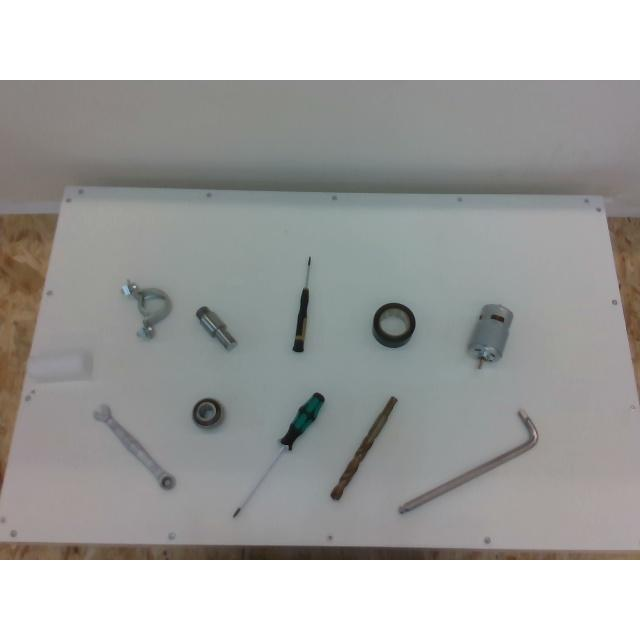AllenKey: (398, 409, 538, 513)
Axis2: (195, 306, 237, 350)
Bearing2: (192, 398, 224, 428)
Drill: (330, 396, 398, 499)
Housing: (121, 280, 171, 340)
Motor2: (468, 305, 508, 367)
Screwdriver: (232, 392, 324, 518)
Spacer: (28, 350, 92, 382)
Wrench: (93, 404, 175, 488)
